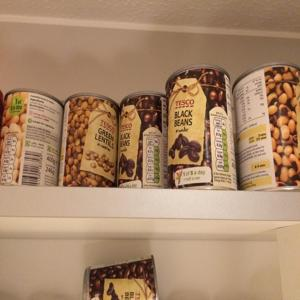metal: (168, 62, 237, 190), (232, 54, 297, 189), (56, 94, 117, 190), (2, 87, 61, 185), (117, 93, 169, 187)
